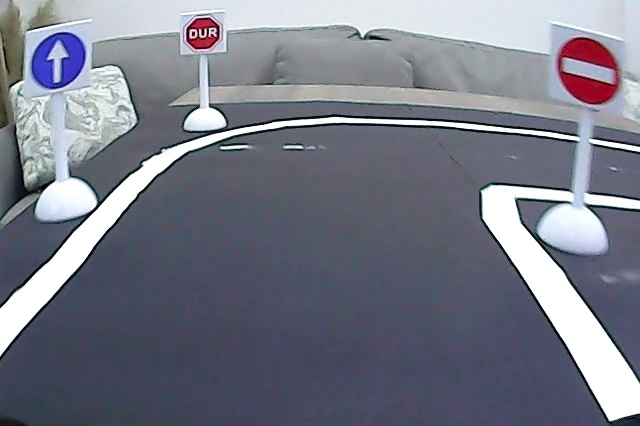do not enter: (550, 32, 624, 110)
stop sign: (181, 14, 225, 55)
